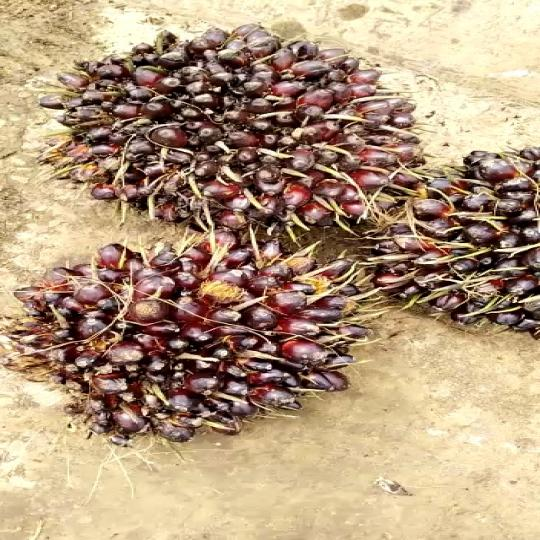mentah: (32, 6, 412, 259), (12, 229, 357, 470), (341, 136, 540, 352)
